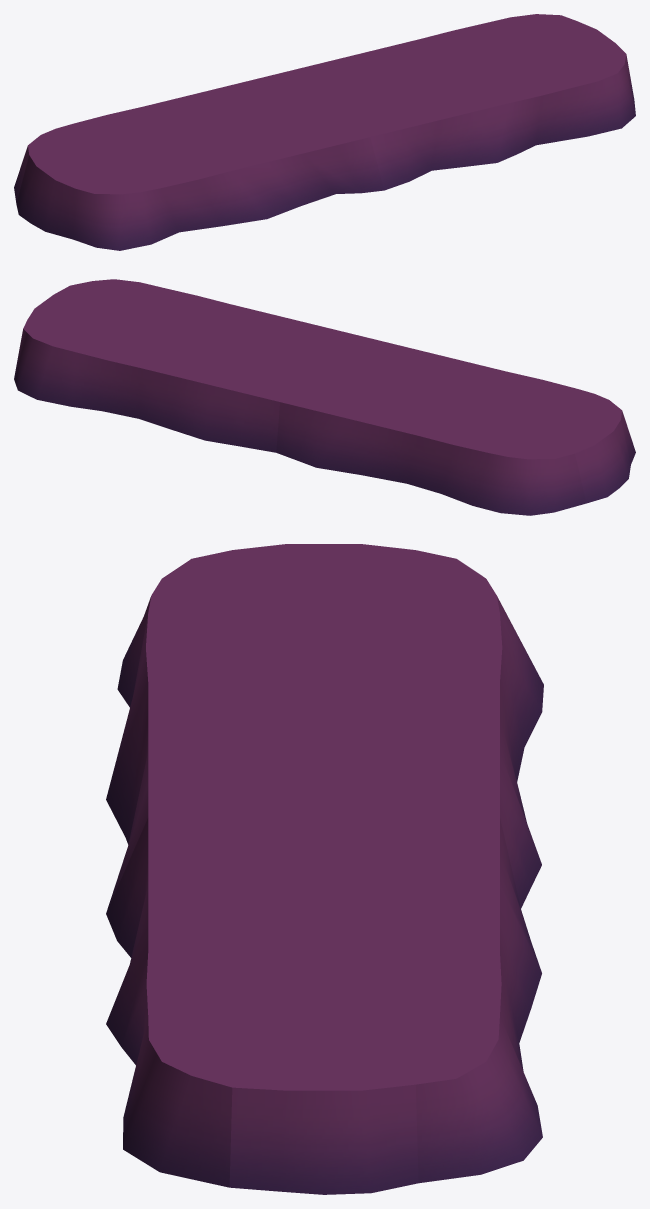
File: table_short.fbx
3 views of the same model, one above another, from view 1: azimuth 30°, elevation 25°; view 2: azimuth 150°, elevation 25°; view 3: azimuth 270°, elevation 25° (orthographic). The views are drawn at different scales.
Parts seen in each view (by area): view 1: pCube3; view 2: pCube3; view 3: pCube3.
Part boxes in pixels (bbox=[...]): pCube3: bbox=[14, 14, 635, 250]; pCube3: bbox=[14, 279, 635, 515]; pCube3: bbox=[106, 544, 543, 1194].
Bounding box in the file's own units: 6.21 × 0.4708 × 2.01.
